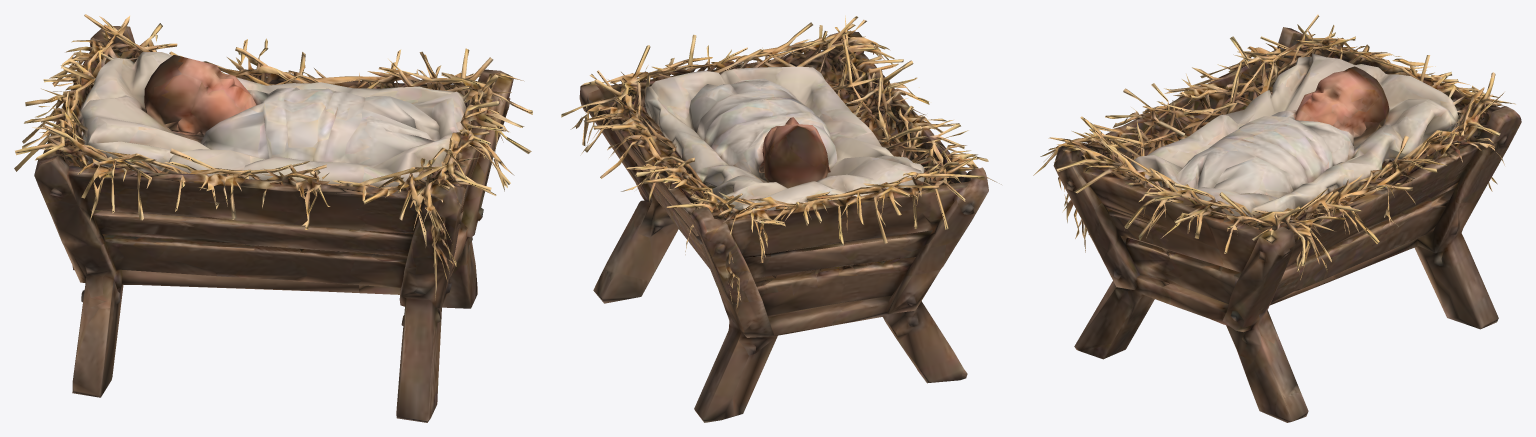
File: jesus-manger-tripo.glb
3 renders of one model, left to right at view 1: azimuth 30°, elevation 25°; view 2: azimuth 150°, elevation 25°; view 3: azimuth 270°, elevation 25°, orthographic. The views are drawn at different scales.
Visible parts, largest first — view 1: tripo_node_997ed375-363c-4c88-8b6a-e045f2e40191; view 2: tripo_node_997ed375-363c-4c88-8b6a-e045f2e40191; view 3: tripo_node_997ed375-363c-4c88-8b6a-e045f2e40191.
Part boxes in pixels (x1=…): tripo_node_997ed375-363c-4c88-8b6a-e045f2e40191: x1=14, y1=14, x2=532, y2=422; tripo_node_997ed375-363c-4c88-8b6a-e045f2e40191: x1=561, y1=15, x2=1001, y2=422; tripo_node_997ed375-363c-4c88-8b6a-e045f2e40191: x1=1033, y1=14, x2=1521, y2=422.
Size of the model in its own units: 1.29 by 0.7191 by 1.31.
1 material, 1 textured.
